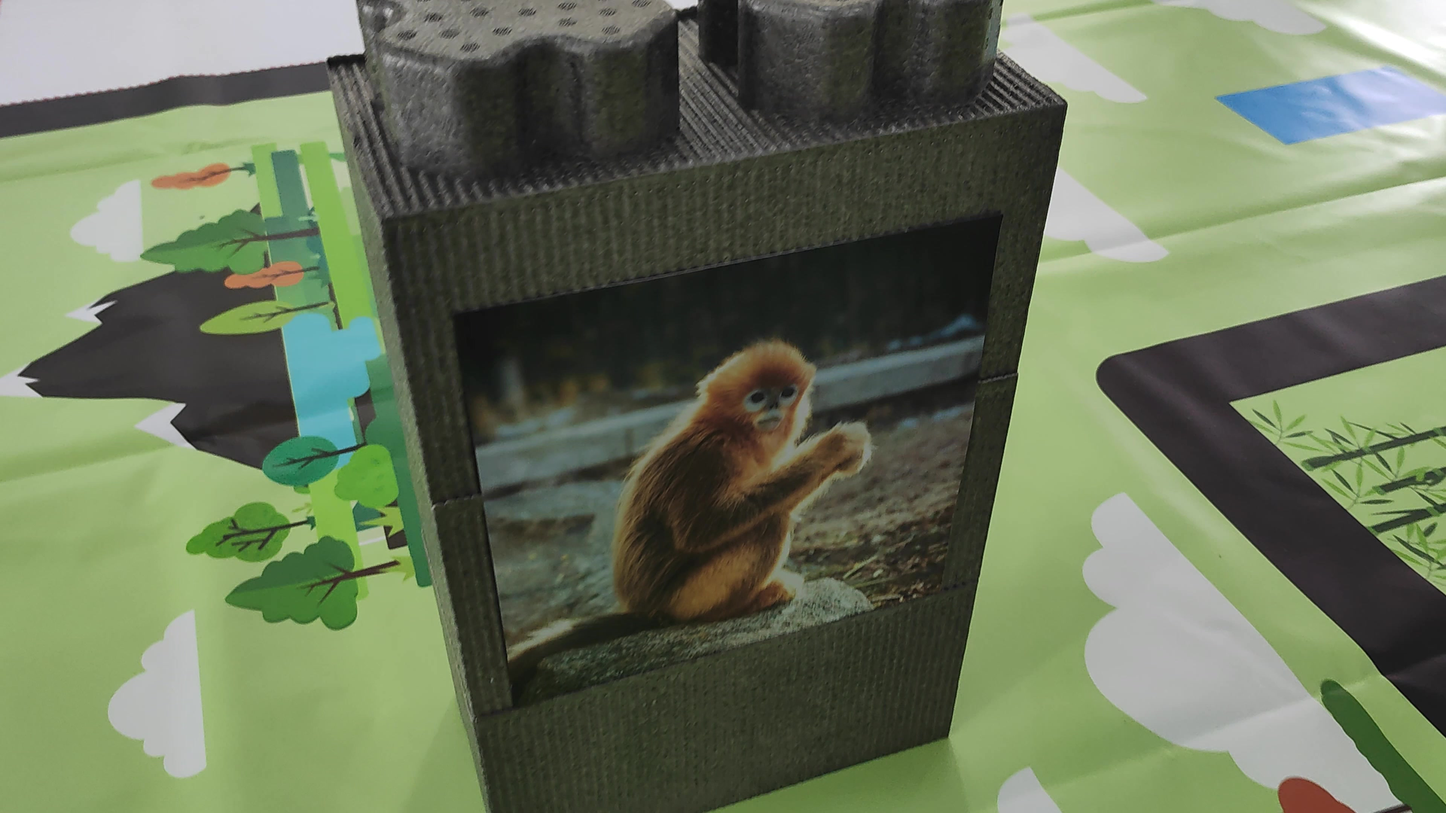monkey: (502, 318, 885, 687)
